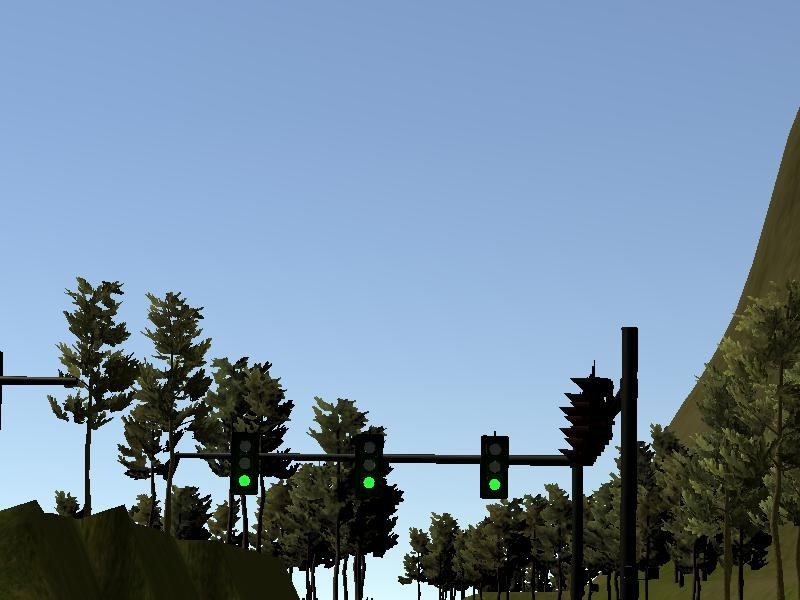GREEN: (230, 435, 259, 495), (480, 437, 508, 499), (356, 433, 383, 496)
